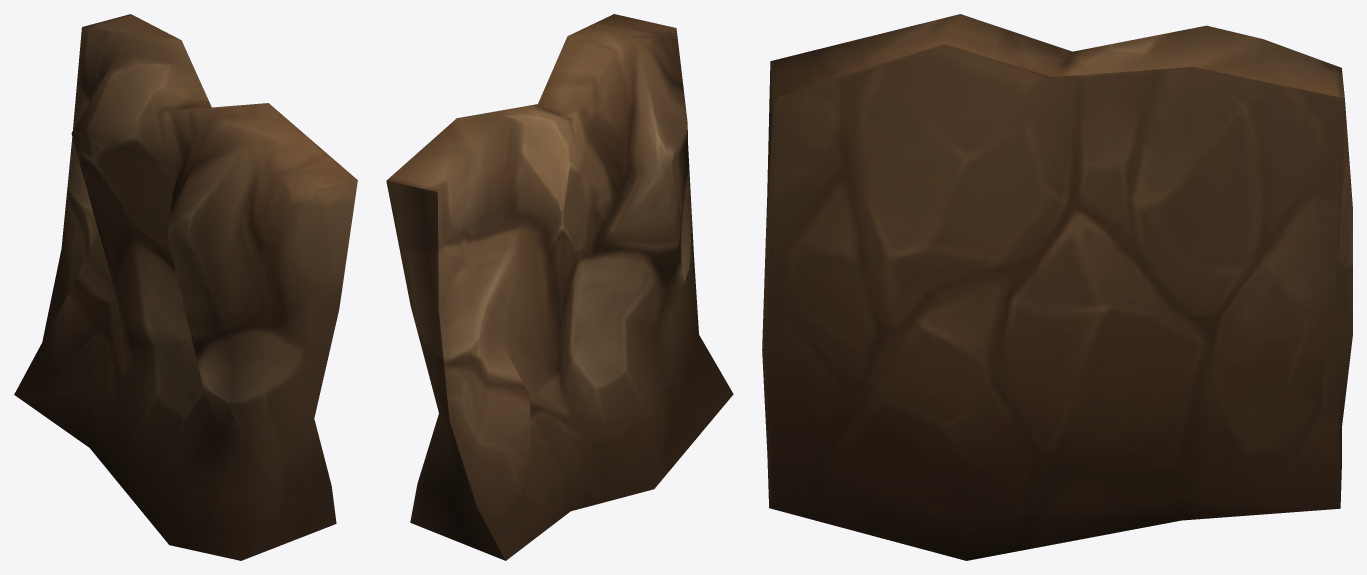
File: Wall_cave_01.fbx
The picture shows the model from 3 angles, left to right: view 1: azimuth 30°, elevation 25°; view 2: azimuth 150°, elevation 25°; view 3: azimuth 270°, elevation 25°; orthographic projection. The views are drawn at different scales.
Visible parts, largest first — view 1: Wall_cave_01; view 2: Wall_cave_01; view 3: Wall_cave_01.
Boxes of the visible parts, x1=… form: Wall_cave_01: x1=14, y1=14, x2=357, y2=560; Wall_cave_01: x1=386, y1=14, x2=733, y2=560; Wall_cave_01: x1=762, y1=14, x2=1352, y2=560.
Bounding box in the file's own units: 132 × 414 × 415.
